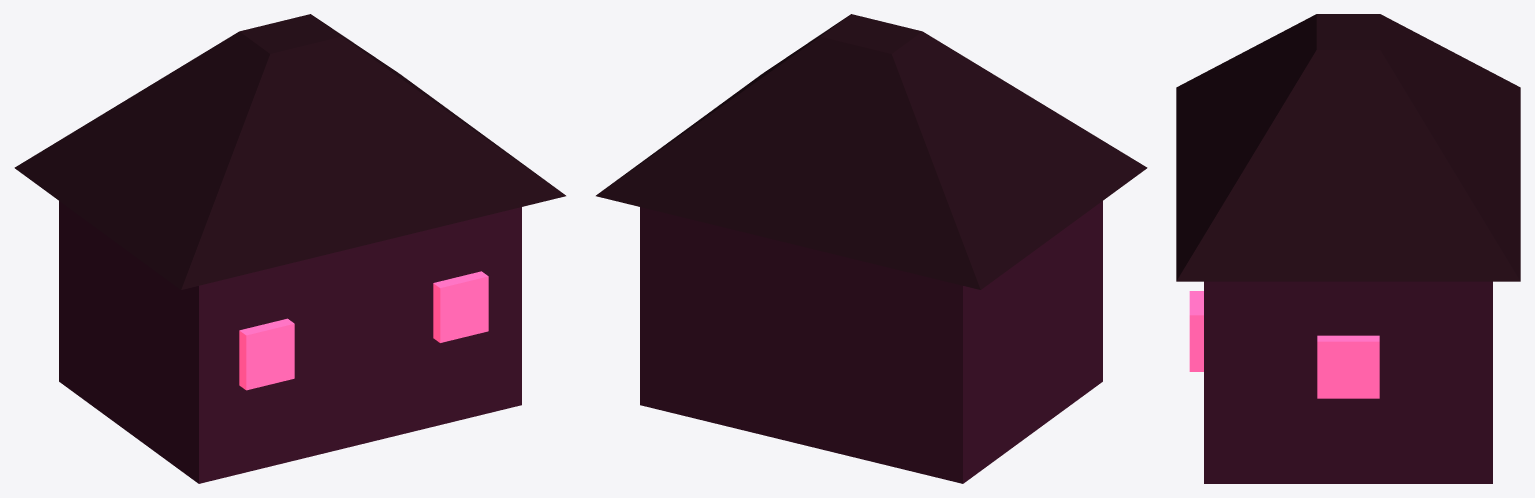
The model's file is house.glb.
3 renders of one model, left to right at view 1: azimuth 30°, elevation 25°; view 2: azimuth 150°, elevation 25°; view 3: azimuth 270°, elevation 25°, orthographic. The views are drawn at different scales.
Visible parts, largest first — view 1: Walls, Roof, W2, W1; view 2: Walls, Roof; view 3: Roof, Walls, W3, W2.
Boxes of the visible parts, box(x1,y1,x2,y2) form: Walls: box(59, 201, 521, 483); Roof: box(14, 14, 565, 289); W2: box(433, 271, 488, 342); W1: box(239, 318, 294, 390); Walls: box(640, 201, 1102, 483); Roof: box(596, 14, 1147, 289); Roof: box(1176, 14, 1520, 281); Walls: box(1204, 281, 1492, 483); W3: box(1317, 335, 1379, 398); W2: box(1189, 291, 1203, 371).
Size of the model in its own units: 1.91 by 1.7 by 1.43.
